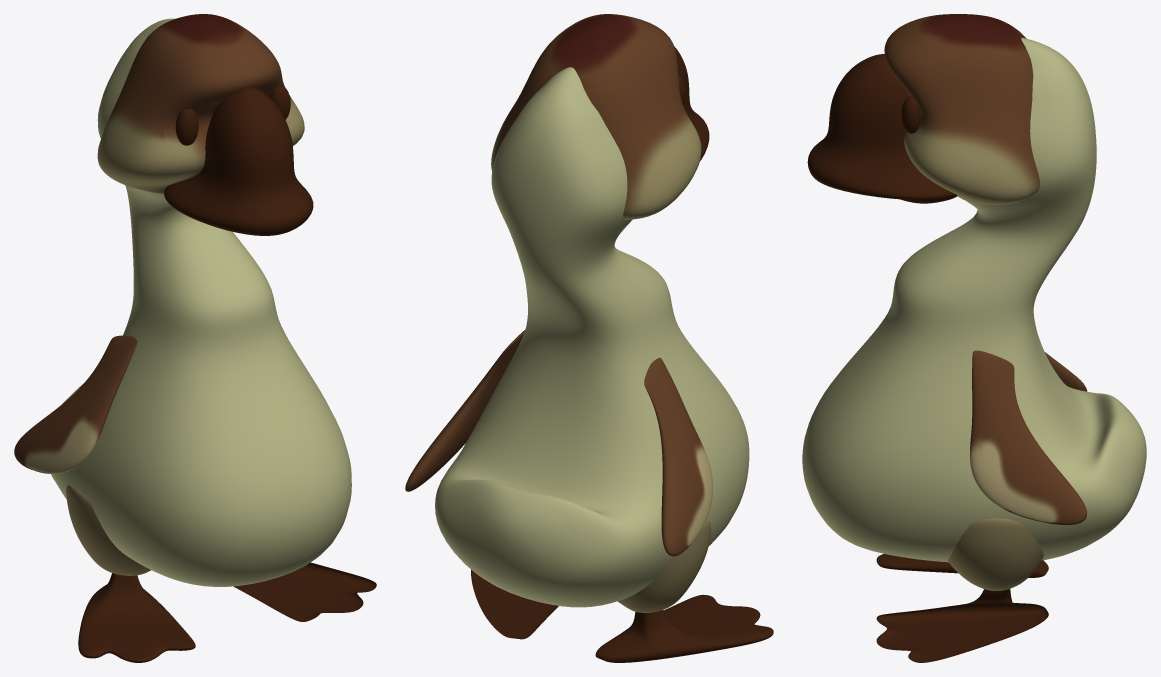
Rendered from DUCKDUCKGOOSE.fbx.
3 renders of one model, left to right at view 1: azimuth 30°, elevation 25°; view 2: azimuth 150°, elevation 25°; view 3: azimuth 270°, elevation 25°, orthographic. The views are drawn at different scales.
Parts seen in each view (by area): view 1: Cube.001, Cube.003, Cube.007, Cube.004, Cube.008, Cube.002, Sphere; view 2: Cube.001, Cube.003, Cube.008, Cube.004, Cube.002, Cube.007; view 3: Cube.001, Cube.003, Cube.008, Cube.007, Cube.004, Cube.002, Sphere.
Boxes of the visible parts, x1,y1,x2,y2 form: Cube.001: [51, 18, 351, 586]; Cube.003: [97, 14, 304, 194]; Cube.007: [164, 87, 313, 235]; Cube.004: [78, 562, 376, 662]; Cube.008: [14, 335, 137, 474]; Cube.002: [66, 485, 150, 575]; Sphere: [175, 85, 290, 145]; Cube.001: [435, 67, 749, 607]; Cube.003: [491, 14, 701, 219]; Cube.008: [405, 330, 712, 556]; Cube.004: [471, 569, 773, 662]; Cube.002: [617, 521, 711, 612]; Cube.007: [674, 46, 709, 160]; Cube.001: [802, 38, 1146, 562]; Cube.003: [884, 14, 1039, 204]; Cube.008: [970, 350, 1087, 525]; Cube.007: [807, 54, 956, 199]; Cube.004: [876, 554, 1048, 662]; Cube.002: [947, 518, 1043, 590]; Sphere: [901, 96, 920, 133].
Size of the model in its own units: 86.5 by 165 by 89.54.
